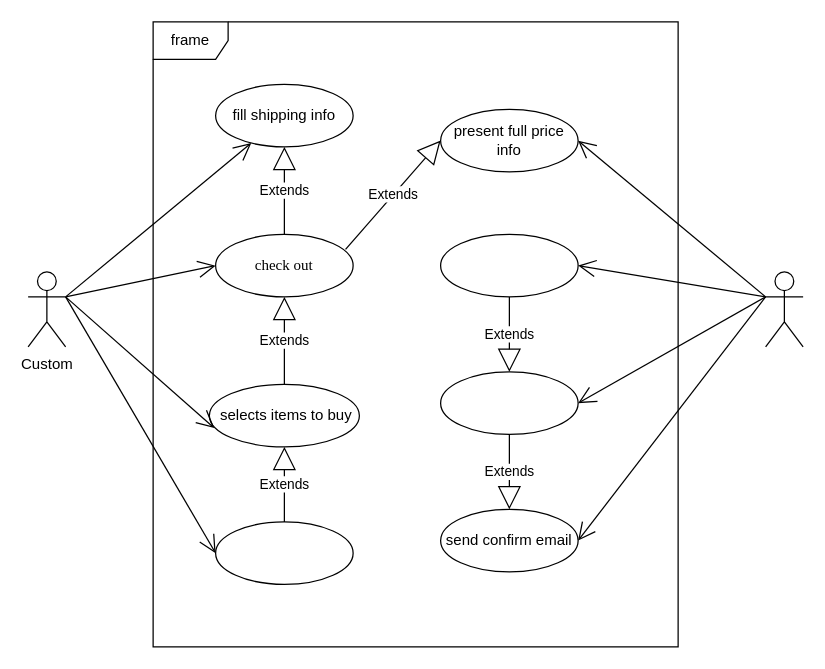
Image size: 825x669. Some labels were removed from this diagram. Each missing label, with the centre of its shape:
Actor: the point at 783,309
authorizes purchase: the point at 508,265
browses Catalog: the point at 283,552
confirm sale: the point at 508,402
